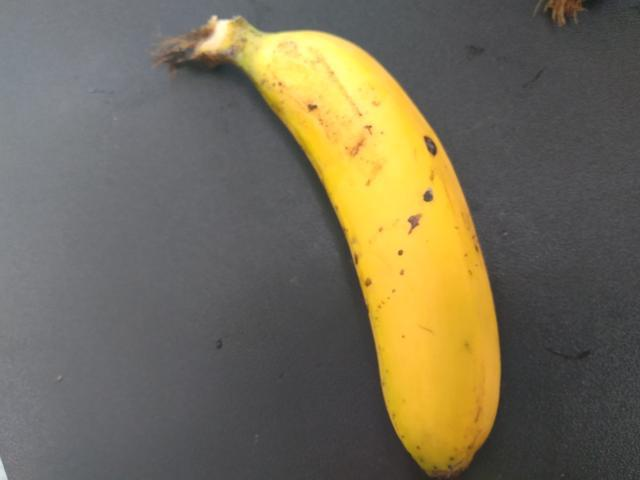ripe: (264, 33, 502, 479)
